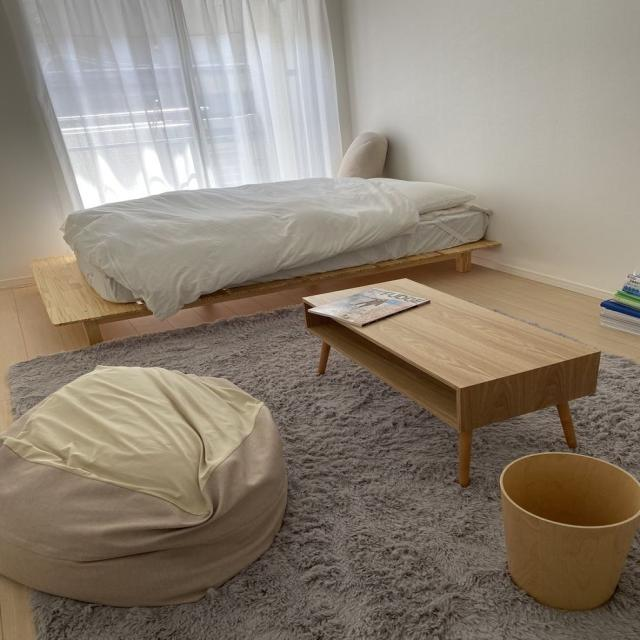obstacle: (0, 363, 288, 608), (299, 276, 601, 487), (63, 184, 494, 302)
